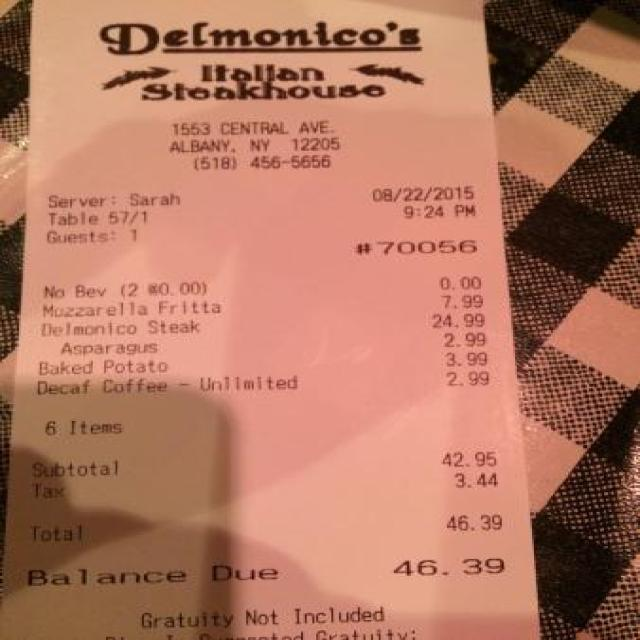TotalPrice: (21, 505, 523, 555)
